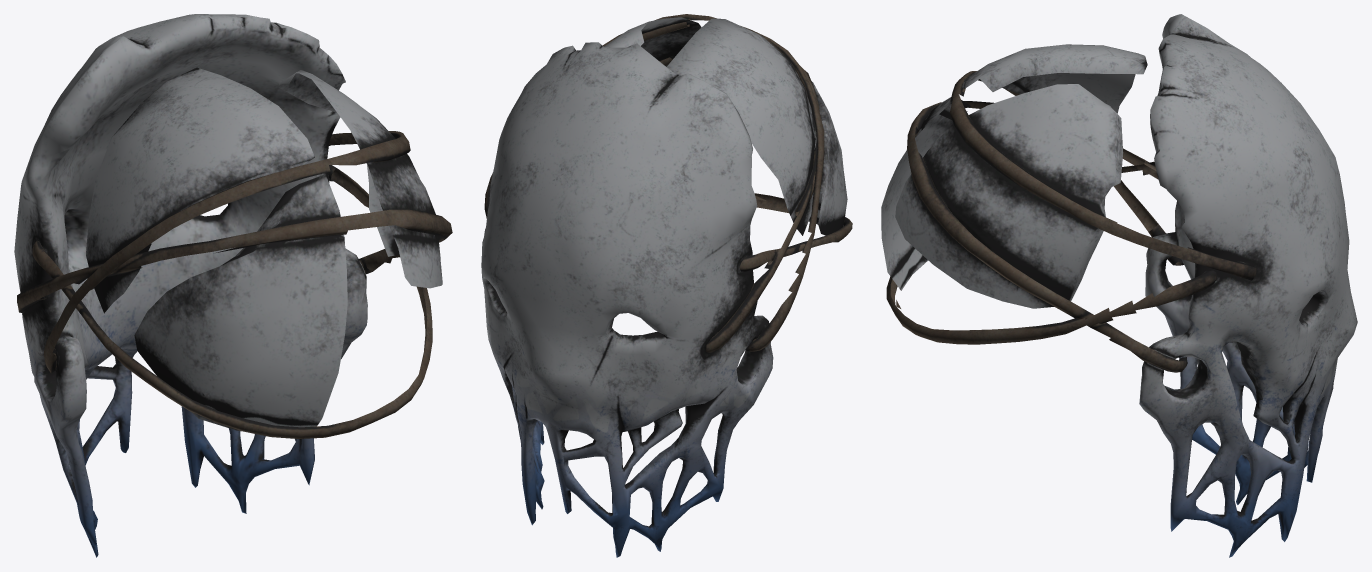
Rendered from trapper.fbx.
3 views of the same model, side by side, from view 1: azimuth 30°, elevation 25°; view 2: azimuth 150°, elevation 25°; view 3: azimuth 270°, elevation 25° (orthographic). The views are drawn at different scales.
Visible parts, largest first — view 1: TRMaskVGA_REF.mo; view 2: TRMaskVGA_REF.mo; view 3: TRMaskVGA_REF.mo.
Boxes of the visible parts, box(x1,y1,x2,y2) form: TRMaskVGA_REF.mo: box(14, 14, 452, 557); TRMaskVGA_REF.mo: box(481, 14, 852, 557); TRMaskVGA_REF.mo: box(881, 14, 1357, 557).
Size of the model in its own units: 19.95 by 31.69 by 27.56.
